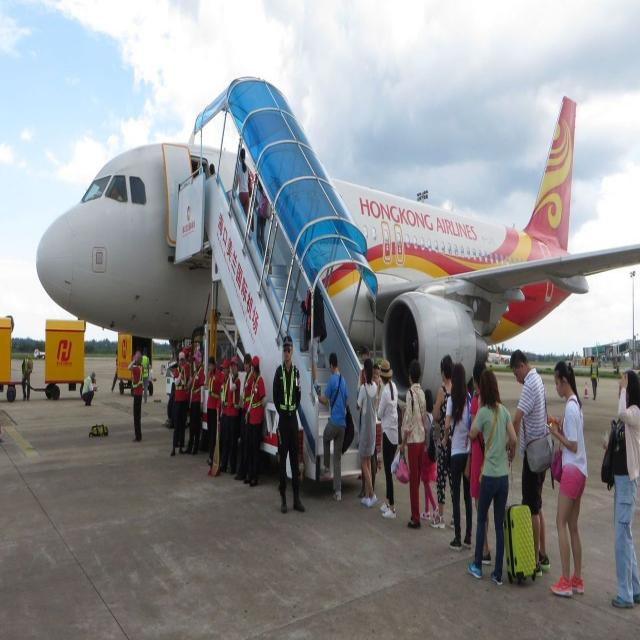body: (508, 347, 556, 577), (467, 366, 517, 586), (543, 359, 587, 597), (600, 368, 640, 609), (440, 360, 475, 552), (391, 360, 428, 530), (272, 334, 306, 514), (317, 349, 355, 500), (469, 358, 493, 566), (430, 354, 454, 530), (298, 265, 328, 395), (354, 356, 378, 507), (376, 356, 398, 518), (243, 355, 267, 488), (418, 386, 440, 520), (234, 352, 256, 482), (356, 344, 374, 500), (183, 348, 205, 456), (205, 354, 224, 468), (169, 349, 189, 456), (233, 146, 253, 236), (226, 354, 240, 476), (127, 349, 145, 443), (217, 358, 231, 474), (256, 180, 270, 260), (81, 369, 99, 406), (21, 355, 34, 401), (194, 156, 216, 182), (140, 347, 150, 404), (590, 355, 600, 399), (110, 348, 118, 395), (110, 185, 124, 202), (372, 362, 381, 384), (570, 348, 580, 366)
